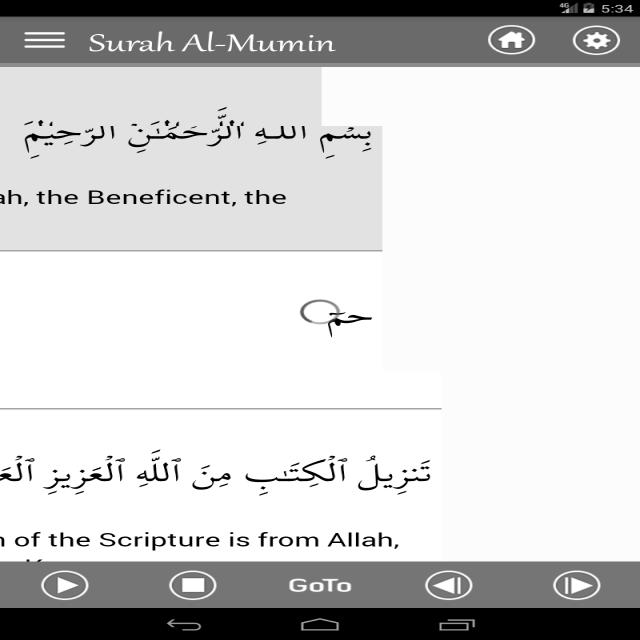ImageButton: (419, 569, 480, 603), (546, 569, 606, 603), (164, 568, 221, 602), (569, 24, 625, 58), (36, 570, 94, 602), (485, 24, 536, 56), (18, 27, 70, 51)
Spinner: (299, 296, 343, 324)
TextView: (2, 452, 440, 498), (14, 115, 380, 153), (13, 526, 404, 552), (1, 184, 298, 208), (84, 28, 338, 56)
